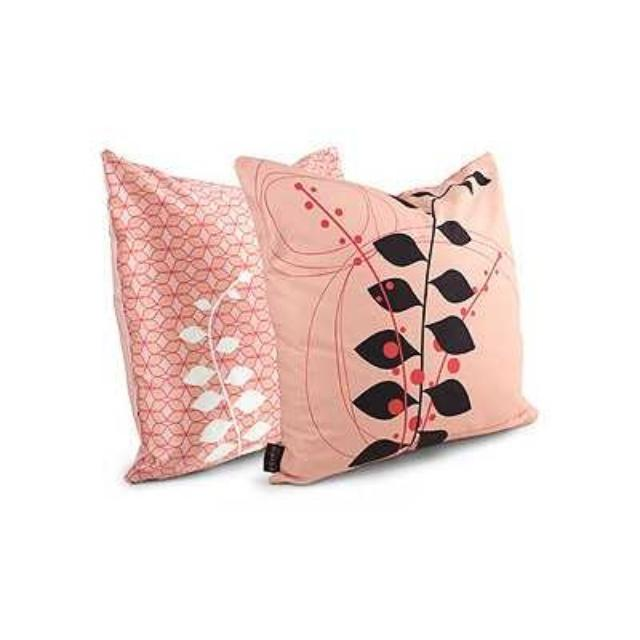pillow: (232, 144, 538, 484), (100, 143, 342, 485)
